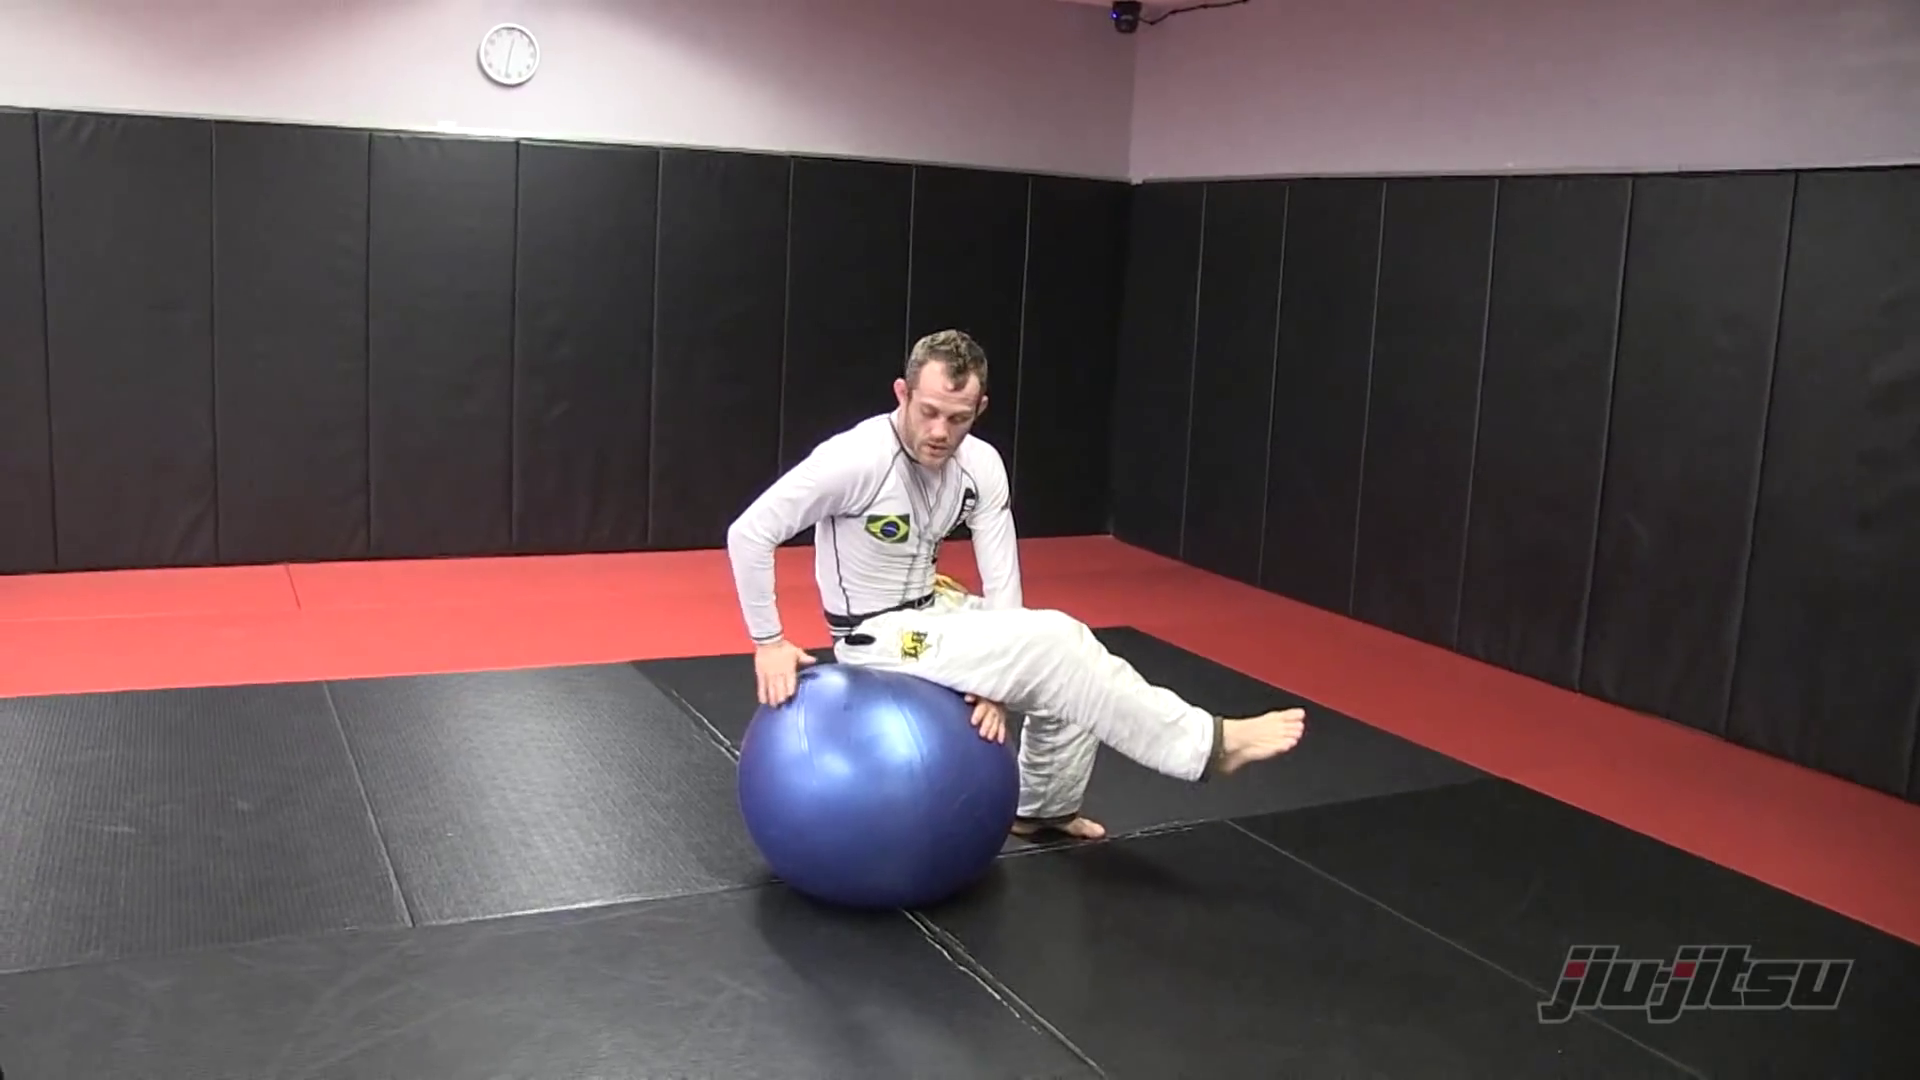yogaball: (723, 659, 1027, 914)
